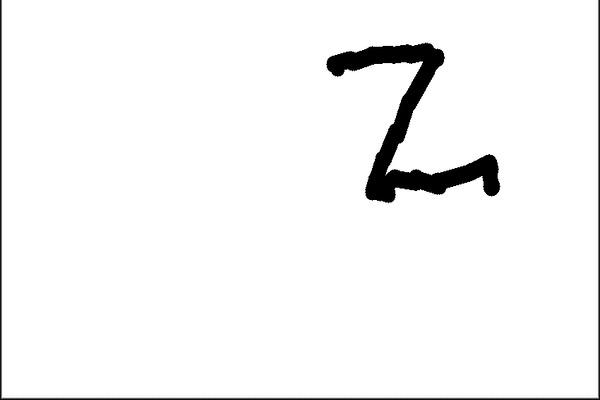Z: (319, 34, 507, 212)
